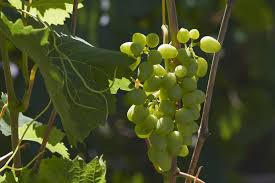grapes: (119, 28, 221, 174)
